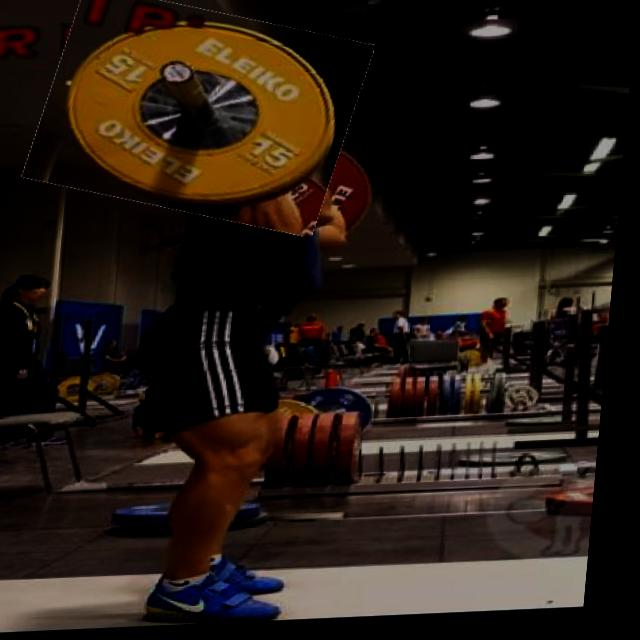barbell: (31, 1, 371, 234)
